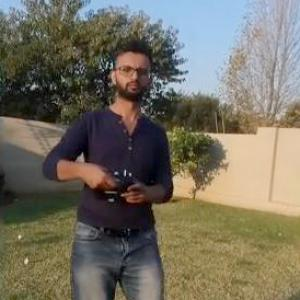follow: (37, 29, 175, 299)
